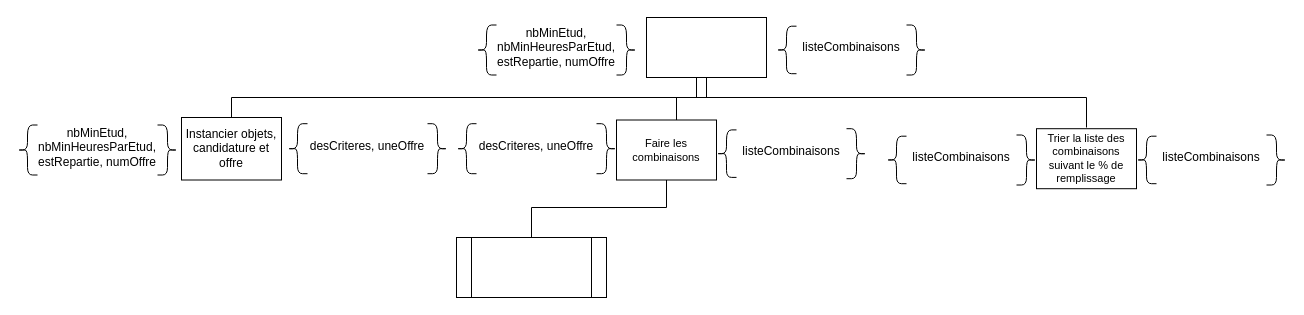
The diagram is 1304 pixels wide and 315 high, and some of its shapes have lost their labels. Each missing label, with the box of its shape:
Algo Complexe: (646, 16, 766, 78)
Créer liste des combinaisons jour: (456, 236, 606, 298)
